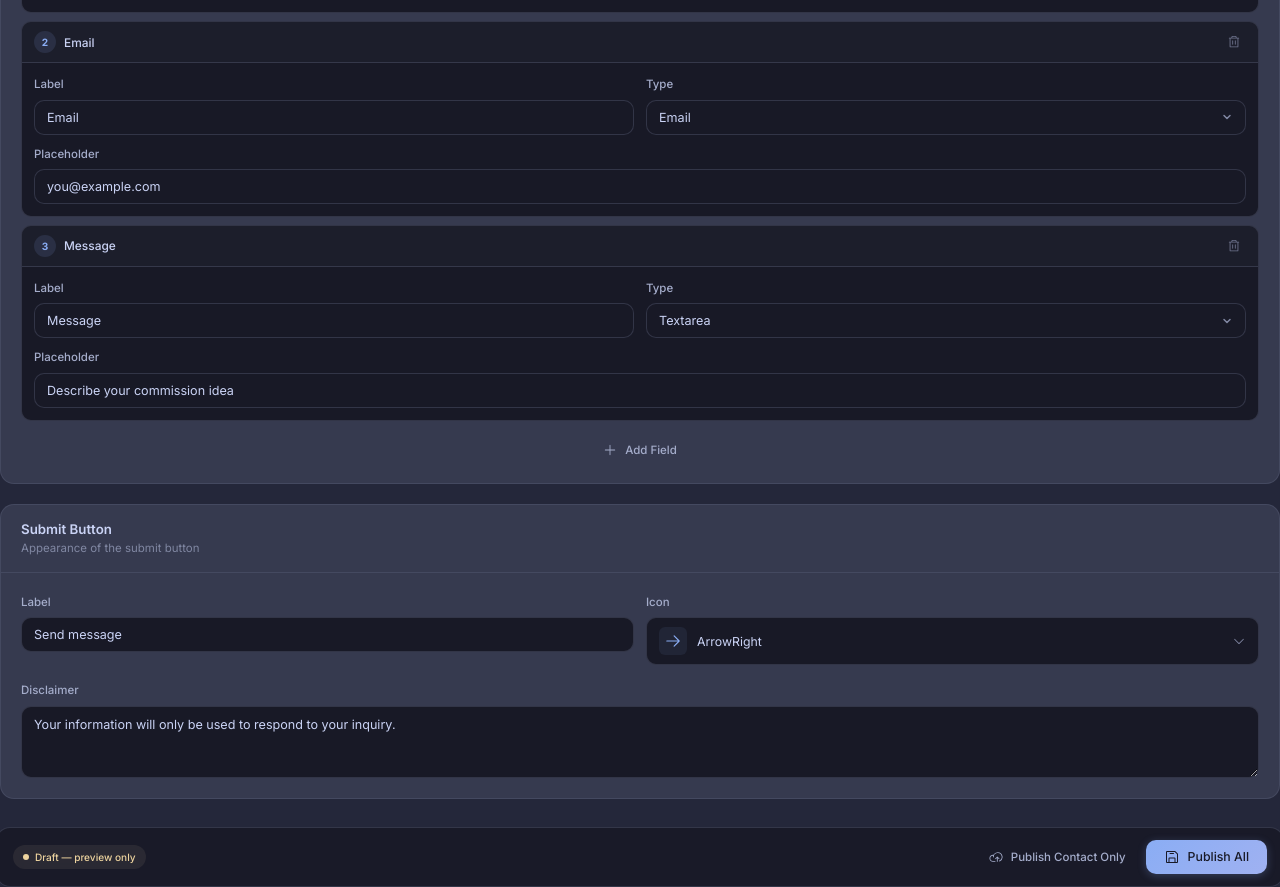
Test: ContactEditor › TC-054: changing a form field label updates draft state immediately
(page scrolled)
Click the button "Add Field": (640, 450) 21,437 -> 1259,463
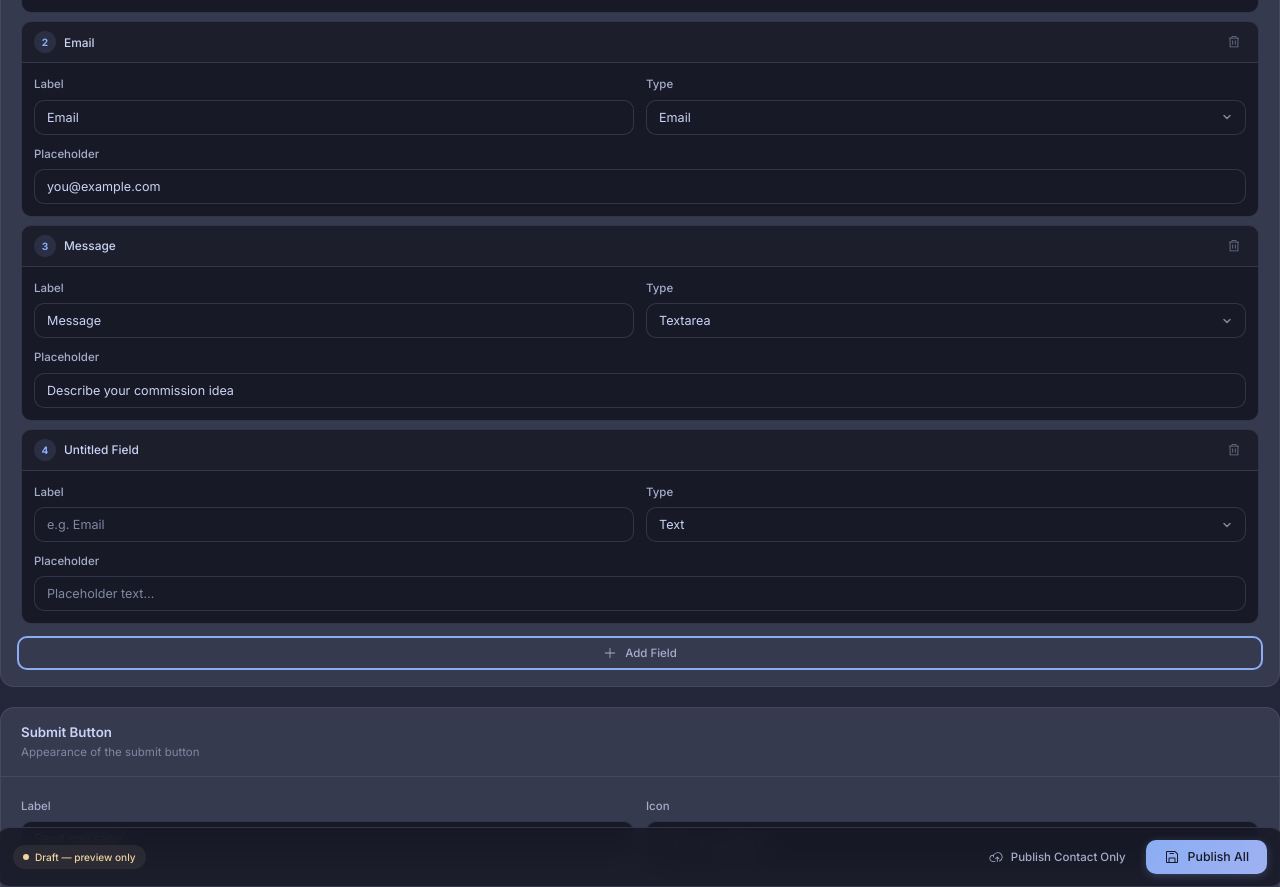
In the field labelled "Label" below "Untitled Field": (334, 524) 34,507 -> 634,542, type "Phone Number"
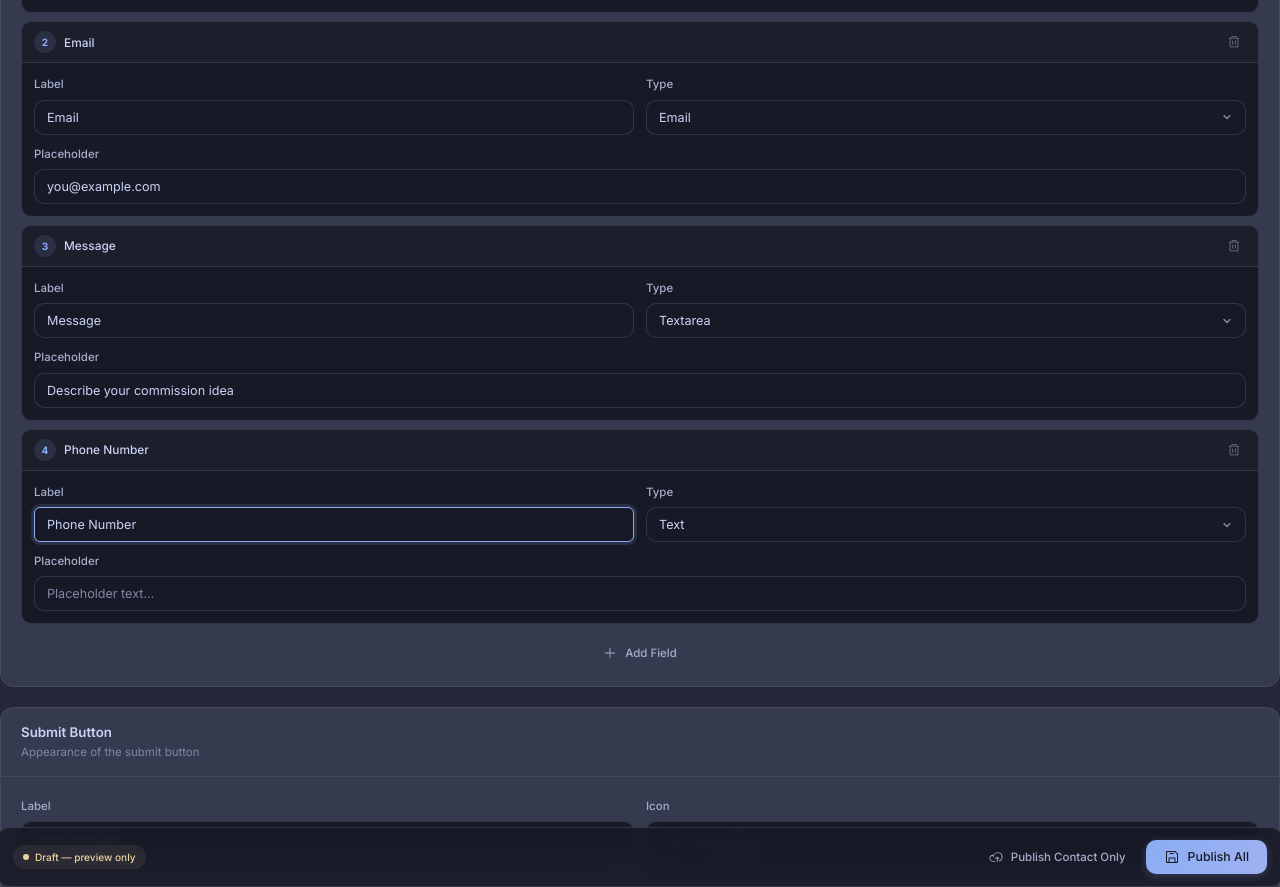
Now the text "Phone Number" is shown, box 64,442 -> 149,457
